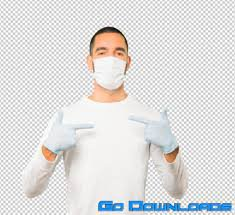mask: (78, 25, 146, 101)
